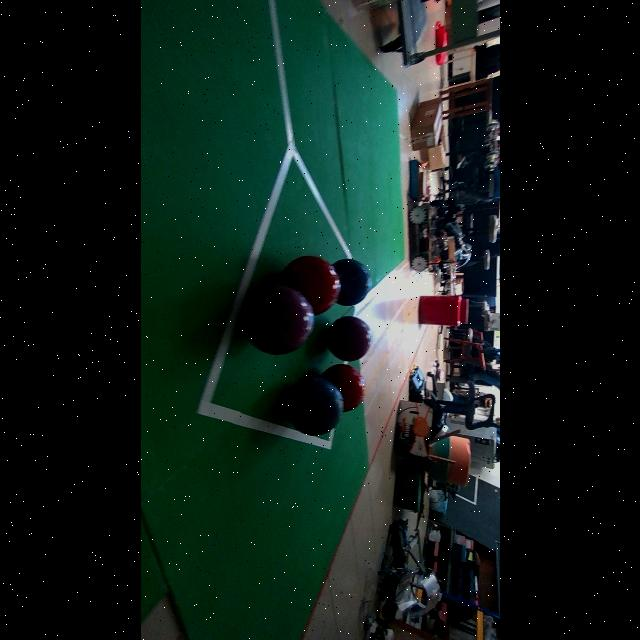B: (285, 377, 343, 436), (333, 259, 373, 306)
P: (240, 286, 314, 354), (326, 316, 371, 362)
R: (281, 257, 341, 315), (321, 364, 366, 411)
